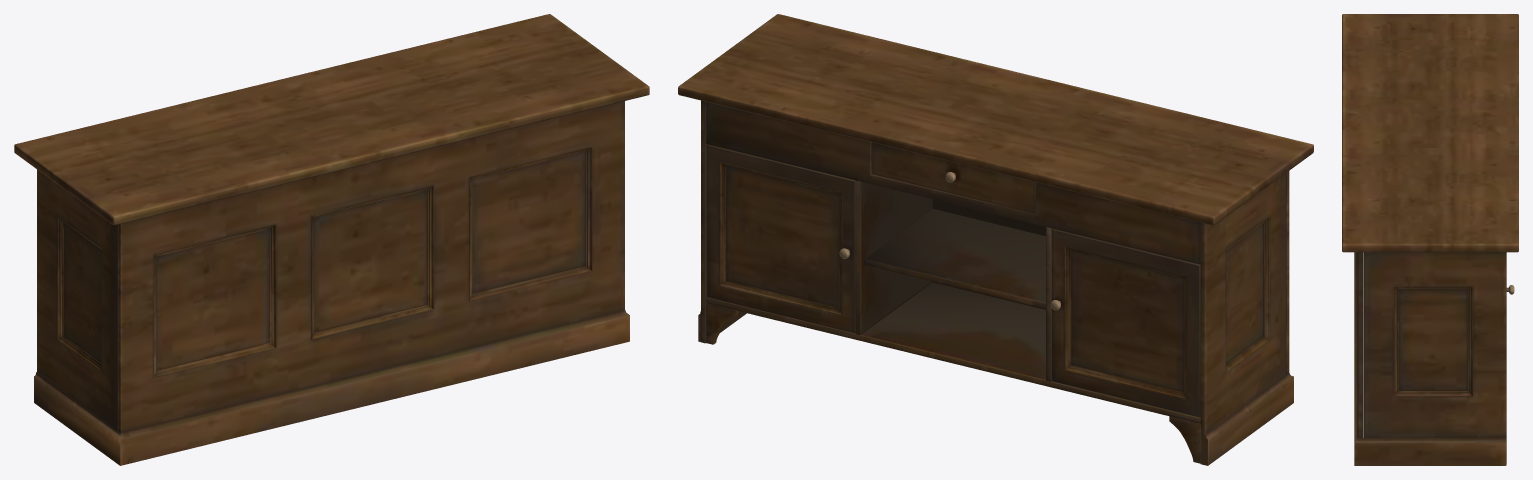
File: prop_mostrador_madera.glb
3 views of the same model, side by side, from view 1: azimuth 30°, elevation 25°; view 2: azimuth 150°, elevation 25°; view 3: azimuth 270°, elevation 25° (orthographic). The views are drawn at different scales.
Visible parts, largest first — view 1: Plane_counter_0; view 2: Plane_counter_0; view 3: Plane_counter_0.
Part boxes in pixels (x1,y1,x2,y2): Plane_counter_0: [14, 14, 649, 465]; Plane_counter_0: [678, 14, 1313, 465]; Plane_counter_0: [1342, 14, 1518, 465].
Bounding box in the file's own units: 4342 × 1987 × 1403.
2 materials, 2 textured.
